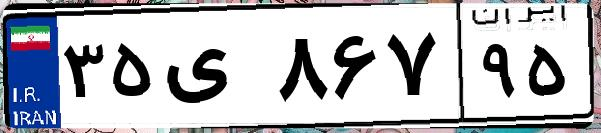3: (57, 26, 110, 100)
5: (525, 38, 570, 115), (110, 28, 158, 98)
6: (330, 28, 385, 110)
7: (385, 28, 445, 110)
8: (270, 28, 330, 110)
9: (475, 38, 525, 113)
ی: (158, 20, 270, 120)
